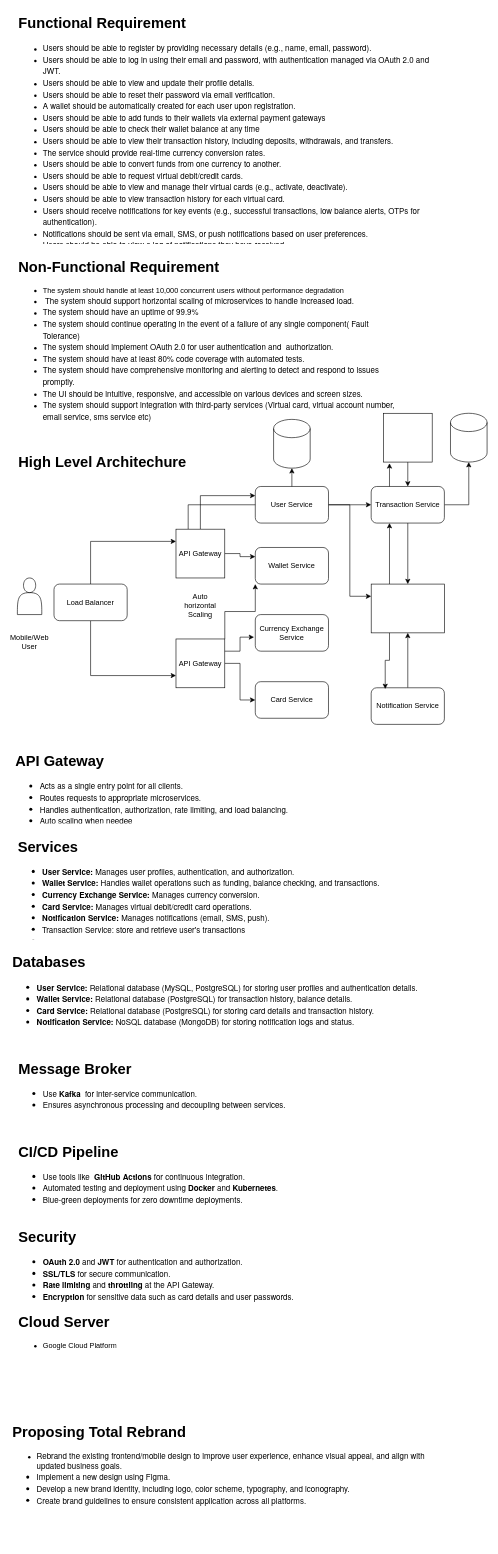
Some shapes in this 498 by 1554 pixel diagram are drawn without their labels. The shapes that lost their labels are listed below. From the top down, each one's box as (x1, y1, x2, y2) in pixels, then its label:
(273, 419, 310, 468): User DB
(383, 413, 432, 462): Caching (Redis)
(450, 413, 487, 462): T DB
(371, 583, 444, 633): Message Broker (Kafka)
